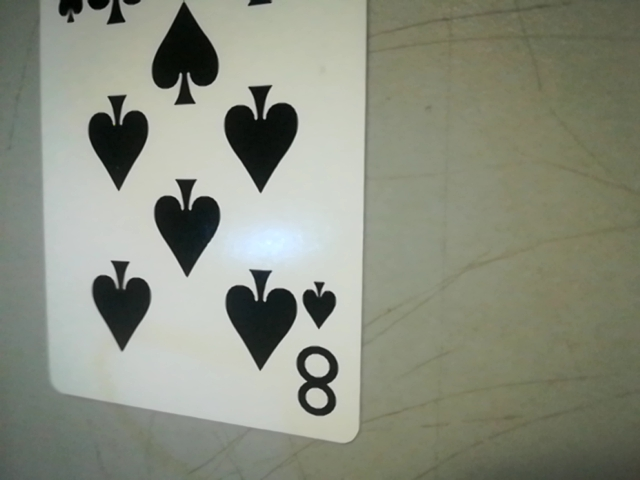ht 8: (288, 269, 355, 428)
